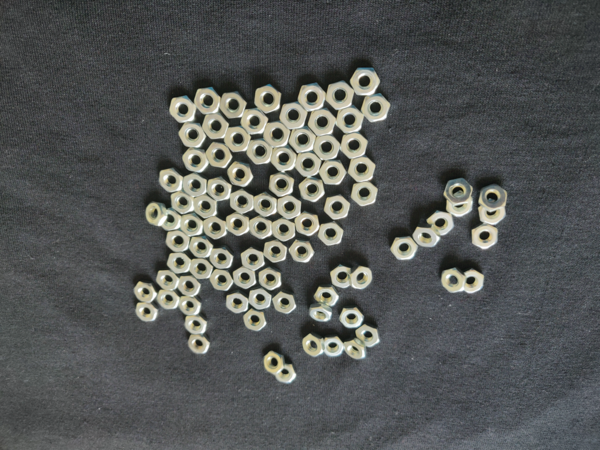nut: (349, 65, 381, 97), (362, 95, 394, 123), (263, 120, 292, 149), (346, 156, 377, 183), (338, 132, 369, 159), (480, 183, 508, 212), (389, 233, 418, 261), (326, 80, 353, 110), (307, 110, 338, 136), (426, 211, 458, 236), (445, 178, 472, 207), (473, 223, 502, 250), (224, 125, 251, 153), (319, 162, 350, 186), (298, 81, 325, 108), (447, 192, 475, 218), (327, 264, 353, 292), (299, 177, 327, 203), (207, 141, 233, 169), (352, 181, 381, 206), (336, 108, 366, 132), (242, 108, 268, 135), (220, 92, 246, 119), (164, 227, 190, 254), (313, 135, 341, 160), (257, 84, 281, 113), (170, 97, 196, 123), (183, 147, 209, 173), (323, 195, 350, 220), (229, 162, 254, 189), (289, 127, 316, 152), (195, 88, 220, 115), (210, 269, 235, 295), (269, 172, 295, 197), (294, 153, 320, 178), (281, 103, 306, 129), (230, 188, 255, 214), (414, 224, 441, 248), (462, 267, 486, 294), (322, 334, 346, 361), (290, 237, 314, 264), (254, 193, 278, 220), (477, 203, 506, 225), (300, 331, 322, 360), (443, 265, 464, 295), (319, 221, 345, 245), (272, 218, 296, 244), (183, 171, 207, 197), (350, 262, 373, 289), (312, 285, 339, 308), (344, 338, 369, 362), (177, 274, 202, 298), (296, 212, 320, 237), (249, 216, 273, 241), (271, 146, 295, 171), (179, 124, 203, 149), (171, 191, 195, 216), (273, 291, 296, 317), (233, 265, 256, 291), (355, 325, 379, 349), (226, 292, 250, 316), (203, 215, 227, 239), (248, 287, 271, 312), (135, 280, 160, 303), (264, 239, 287, 264), (279, 196, 302, 221), (248, 140, 271, 165), (209, 177, 232, 202), (180, 213, 203, 238), (240, 248, 266, 270), (190, 256, 212, 282), (261, 352, 284, 376), (258, 267, 281, 291), (186, 335, 211, 357), (202, 115, 227, 137), (160, 168, 182, 193), (210, 245, 231, 271), (230, 164, 253, 187), (340, 306, 364, 328), (242, 310, 266, 332), (196, 195, 218, 219), (227, 211, 248, 236), (156, 270, 179, 292), (168, 253, 191, 275), (309, 305, 331, 327), (274, 362, 296, 384), (159, 290, 180, 313), (308, 305, 333, 324), (184, 315, 209, 334), (146, 201, 165, 226), (180, 296, 202, 317), (136, 302, 157, 323), (161, 208, 181, 230)
